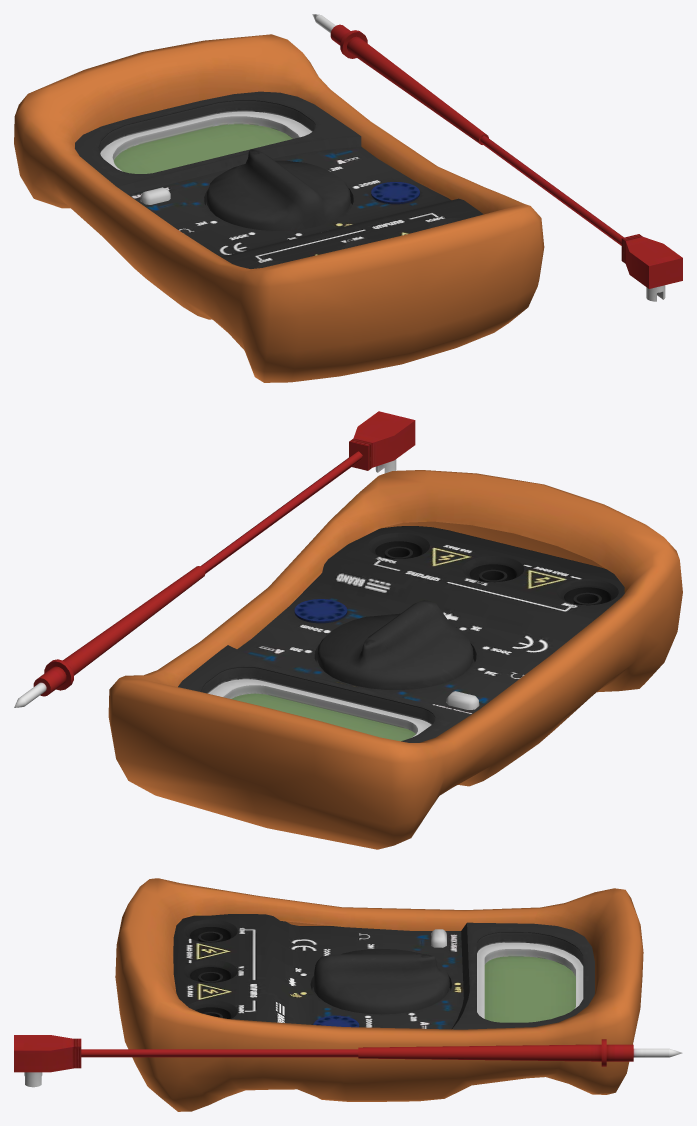
Rendered from multimeter.glb.
3 views of the same model, one above another, from view 1: azimuth 30°, elevation 25°; view 2: azimuth 150°, elevation 25°; view 3: azimuth 270°, elevation 25° (orthographic). The views are drawn at different scales.
Parts seen in each view (by area): view 1: Object_4; view 2: Object_4; view 3: Object_4.
Boxes of the visible parts, x1=… form: Object_4: x1=14, y1=14, x2=682, y2=382; Object_4: x1=14, y1=411, x2=682, y2=849; Object_4: x1=14, y1=878, x2=682, y2=1111.
Bounding box in the file's own units: 0.3551 × 0.1376 × 0.6084.
Materials: 2 (1 with a texture image).
